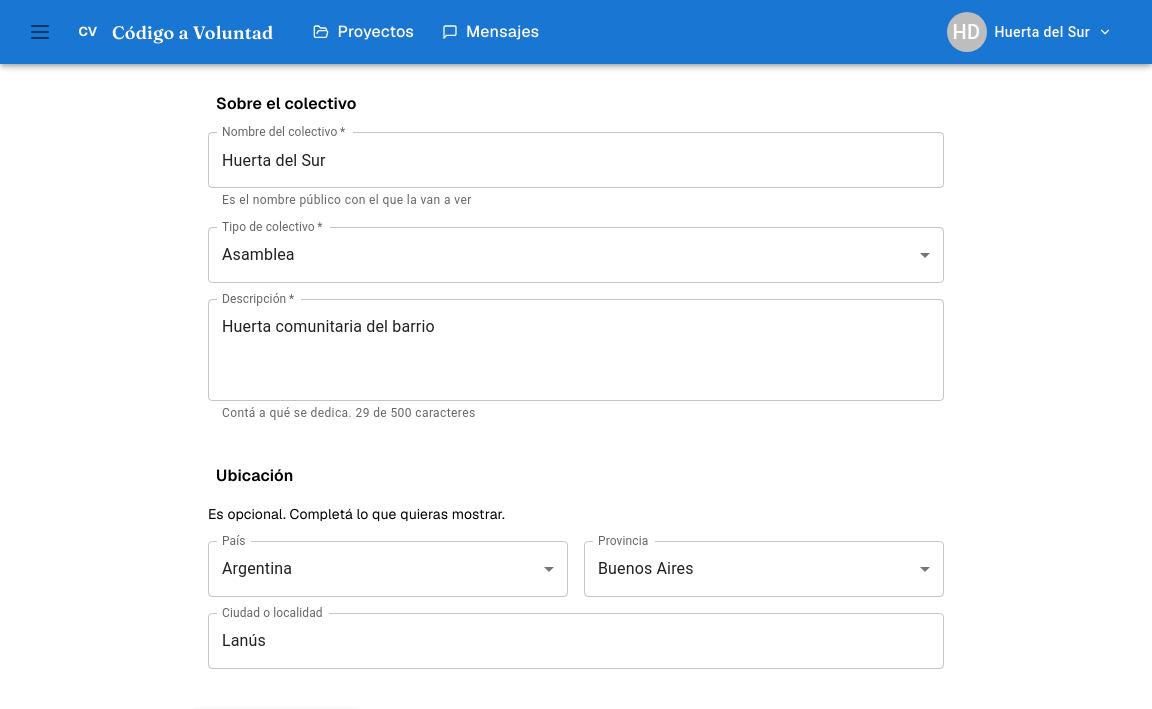
Test case: MiColectivo › si el backend rechaza los cambios muestra su mensaje y conserva lo tipeado
Replace the text in the field labelled "Nombre del colectivo *" with "Red Solidaria" at (576, 160), box [208, 132, 944, 188]
(page scrolled)
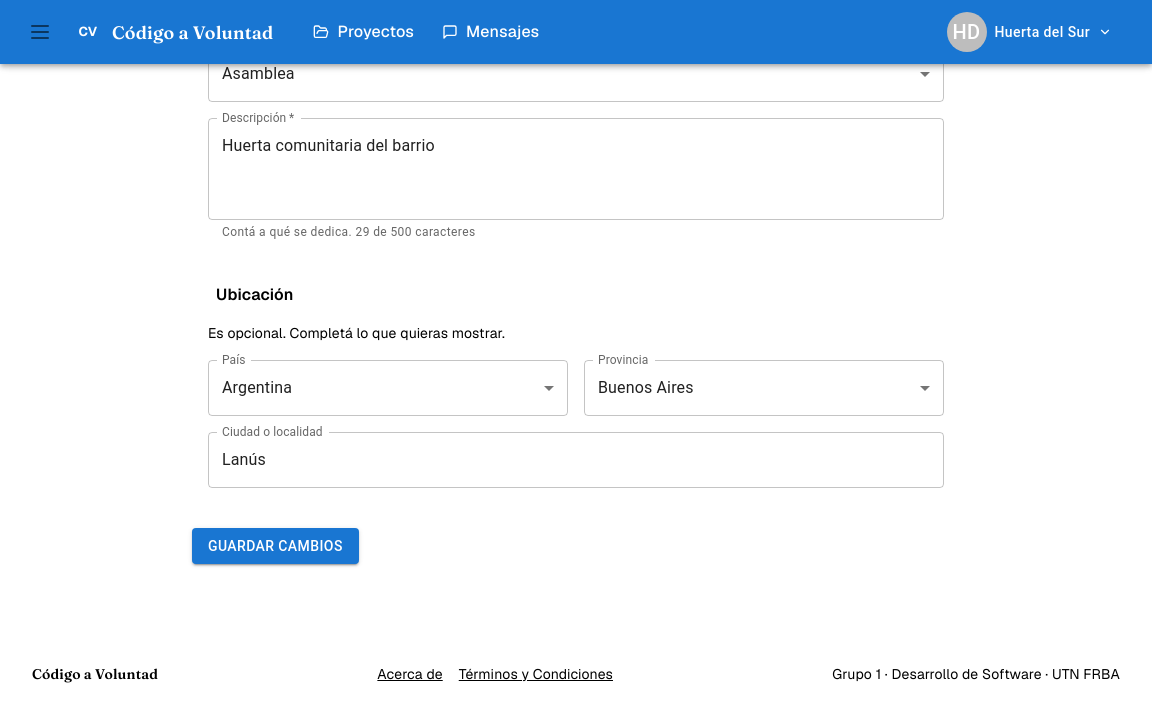
Click the button "Guardar cambios".
click(275, 546)  # box [192, 528, 359, 564]
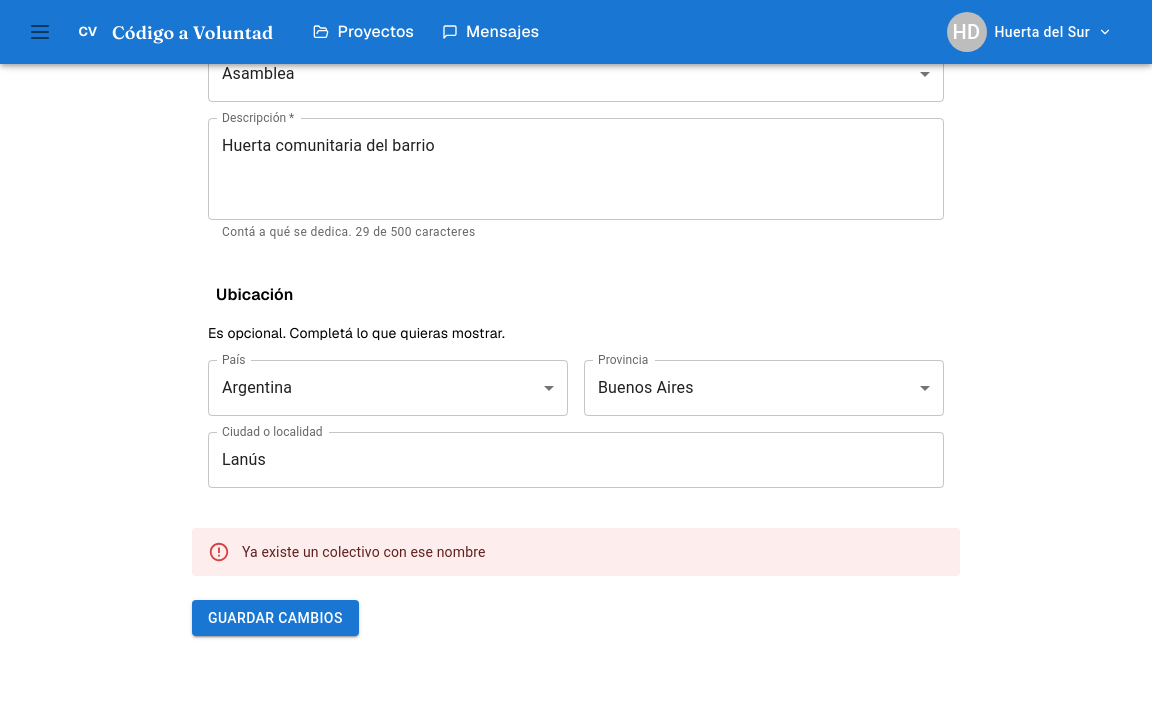
expect the button "Guardar cambios" is enabled: met, box [192, 600, 359, 636]
expect the text "Ya existe un colectivo con ese nombre" is shown: met, box [242, 544, 486, 560]
